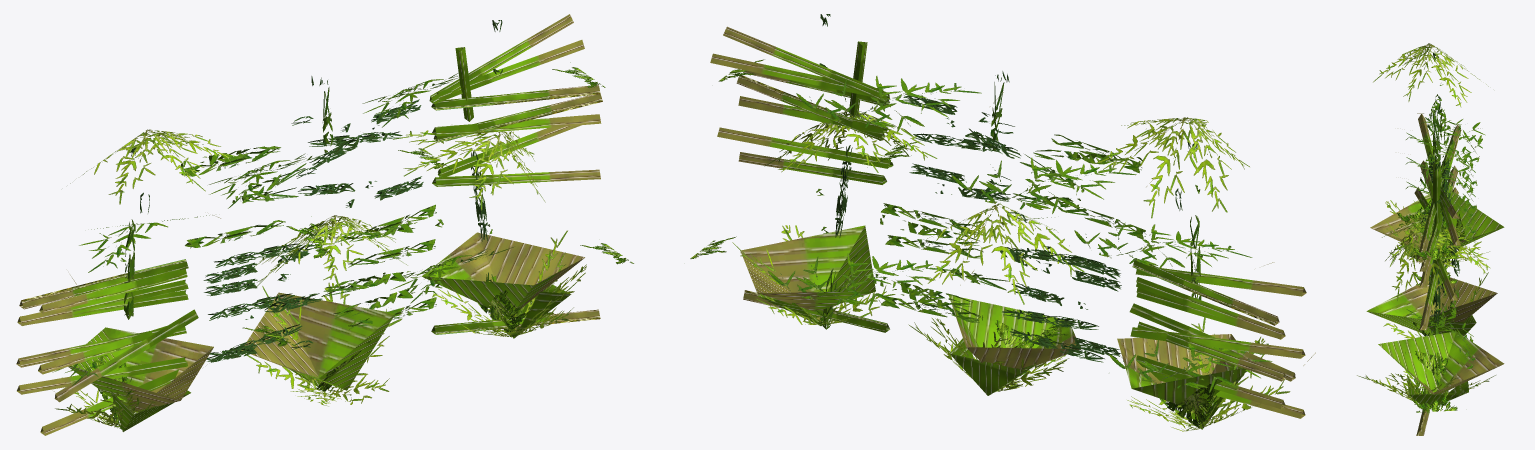
Rendered from chin_misc_palisade.dae.
The picture shows the model from 3 angles, left to right: view 1: azimuth 30°, elevation 25°; view 2: azimuth 150°, elevation 25°; view 3: azimuth 270°, elevation 25°; orthographic projection. The views are drawn at different scales.
Visible parts, largest first — view 1: Circle; view 2: Circle; view 3: Circle.
Boxes of the visible parts, box(x1,y1,x2,y2) form: Circle: box(16, 14, 633, 435); Circle: box(690, 14, 1315, 431); Circle: box(1357, 43, 1504, 435).
Size of the model in its own units: 17.19 by 5.74 by 9.24.
